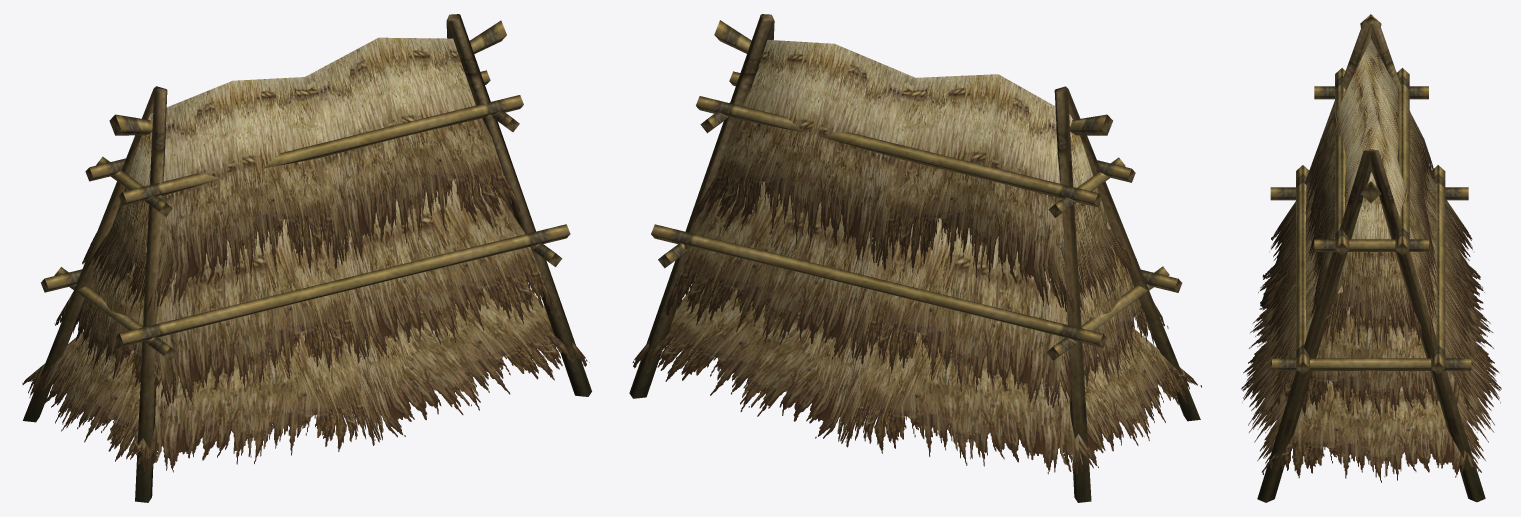
File: ZW_ycd.FBX
3 renders of one model, left to right at view 1: azimuth 30°, elevation 25°; view 2: azimuth 150°, elevation 25°; view 3: azimuth 270°, elevation 25°, orthographic. The views are drawn at different scales.
Visible parts, largest first — view 1: ZW_ycd2, ZW_ycd1; view 2: ZW_ycd2, ZW_ycd1; view 3: ZW_ycd2, ZW_ycd1.
Part boxes in pixels (x1,y1,x2,y2): ZW_ycd2: (22, 37, 589, 473); ZW_ycd1: (23, 14, 591, 502); ZW_ycd2: (632, 40, 1201, 474); ZW_ycd1: (629, 14, 1200, 502); ZW_ycd2: (1241, 39, 1501, 482); ZW_ycd1: (1257, 14, 1485, 502).
Bounding box in the file's own units: 533 × 372 × 287.
